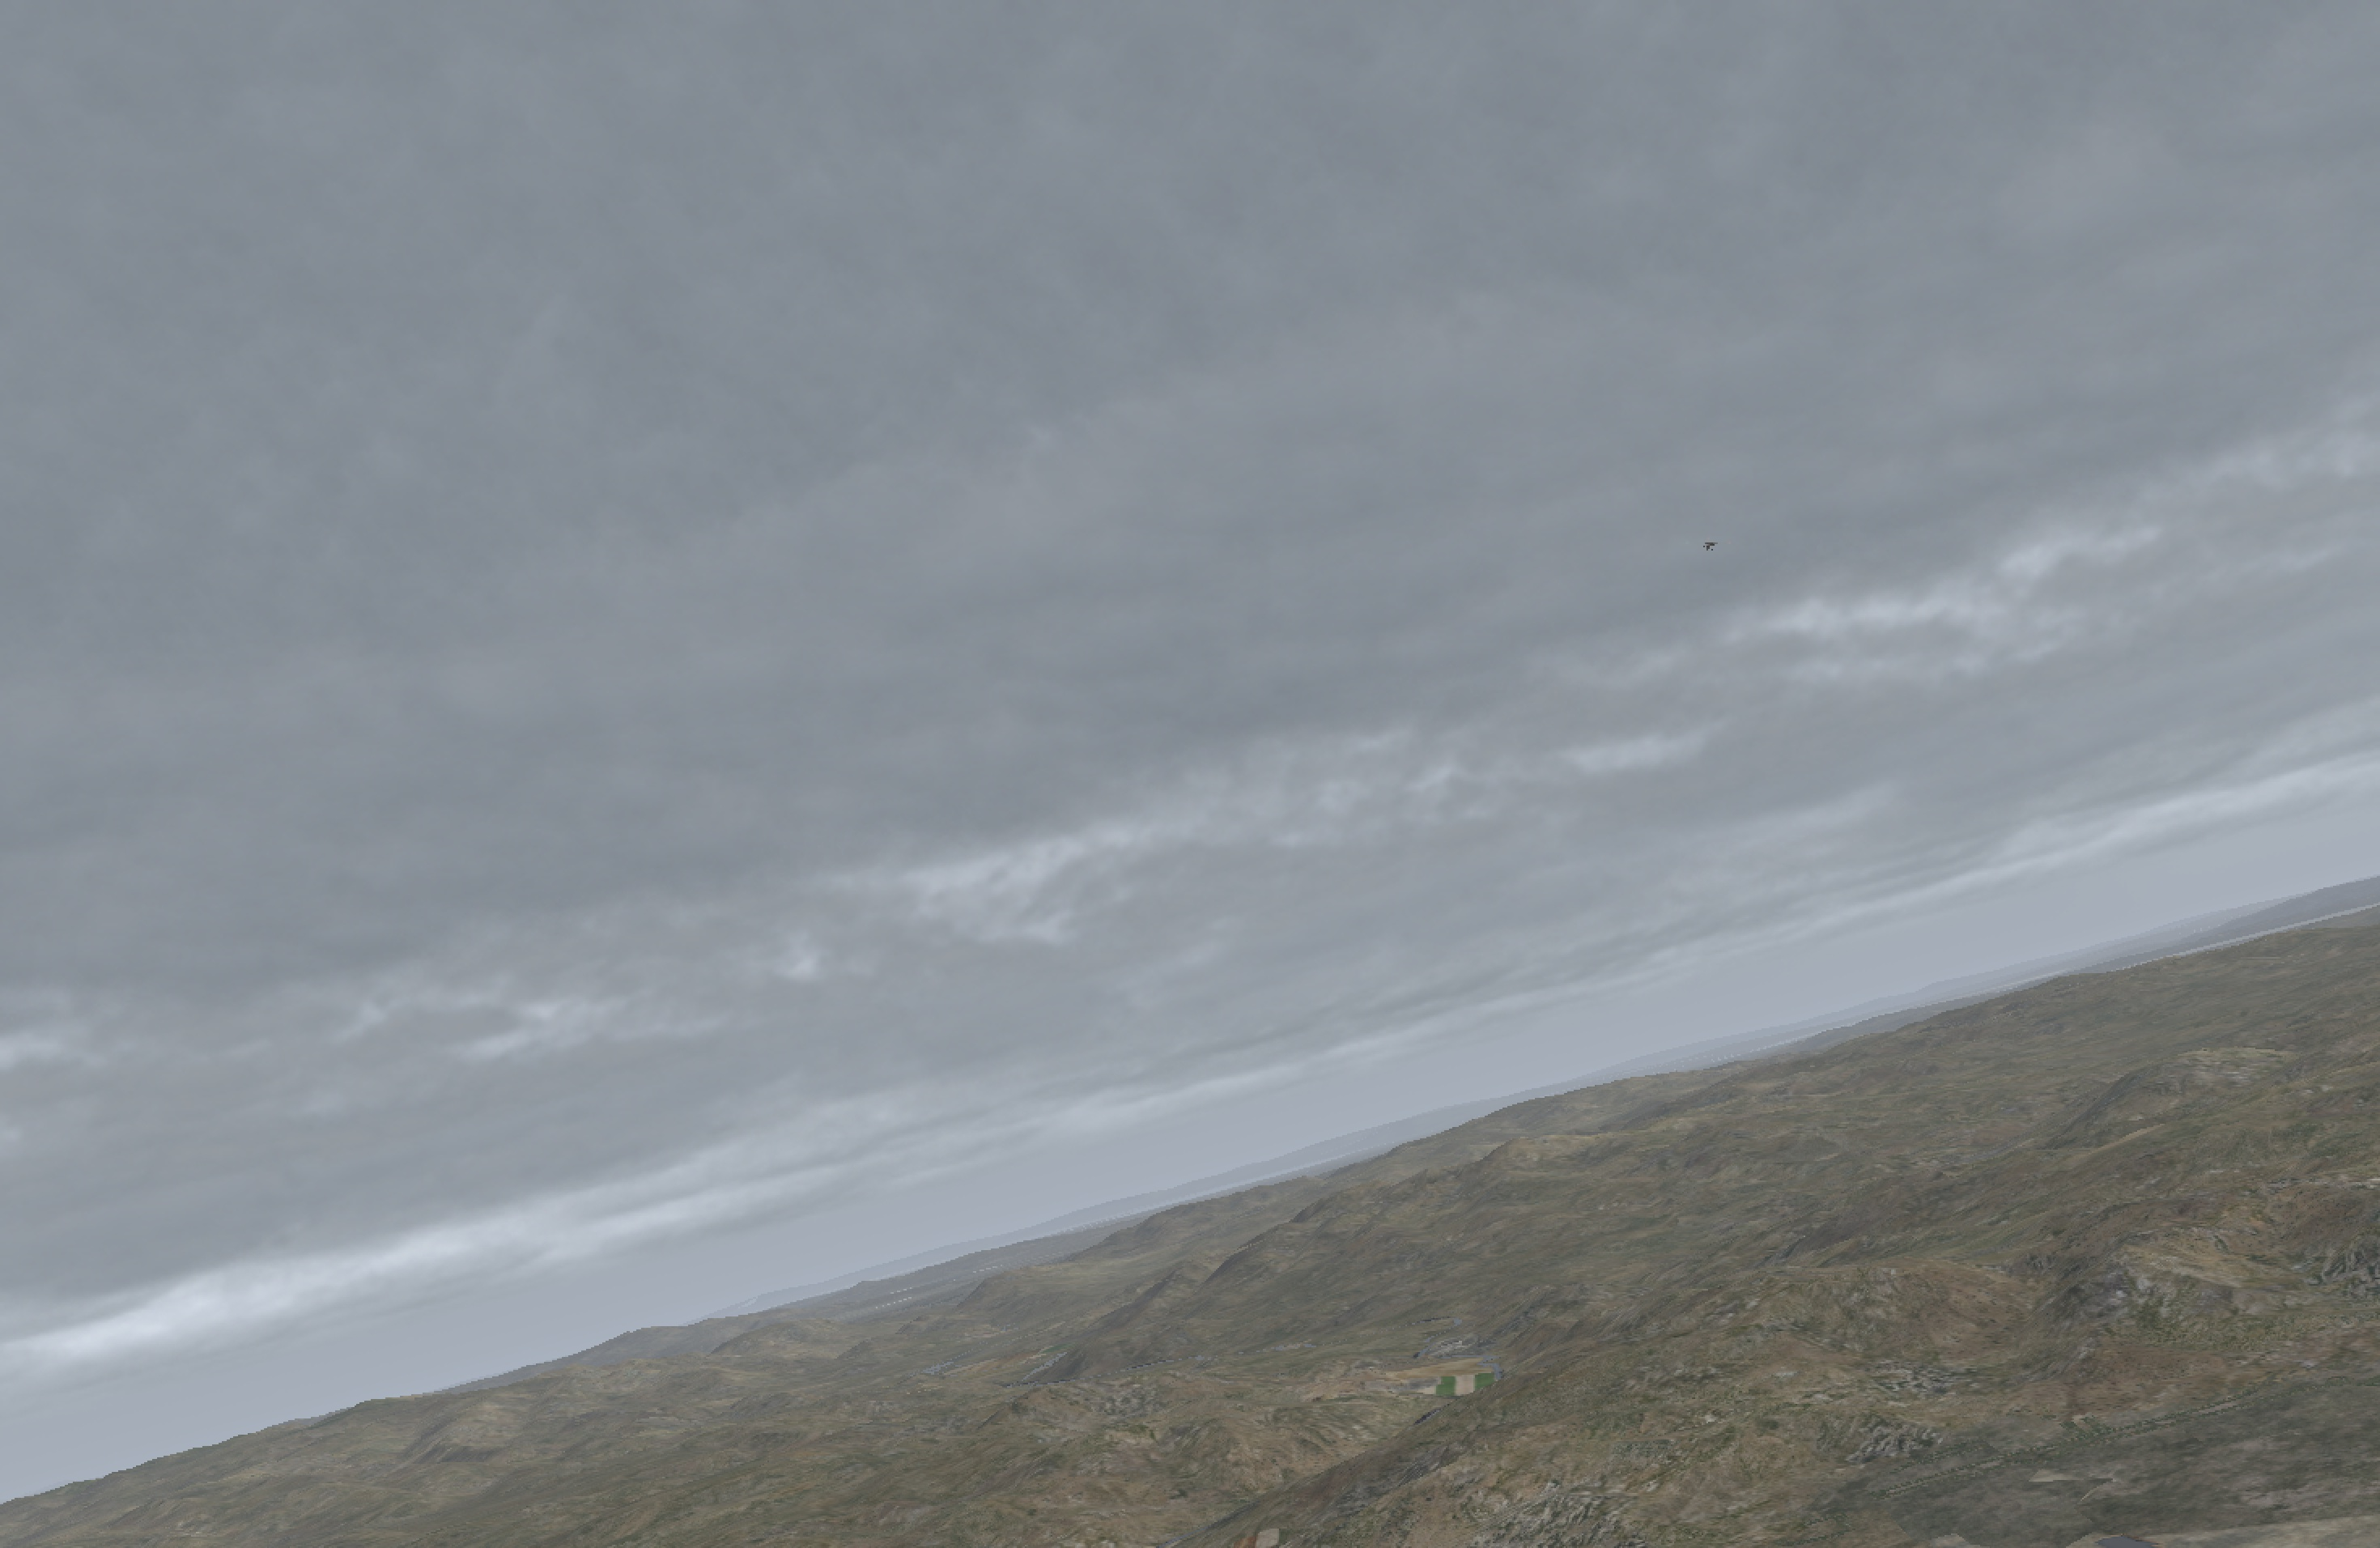aircraft: (1693, 540, 1723, 550)
